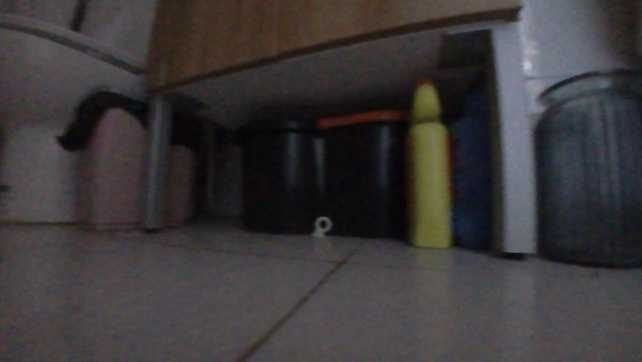toilet: (0, 11, 150, 223)
